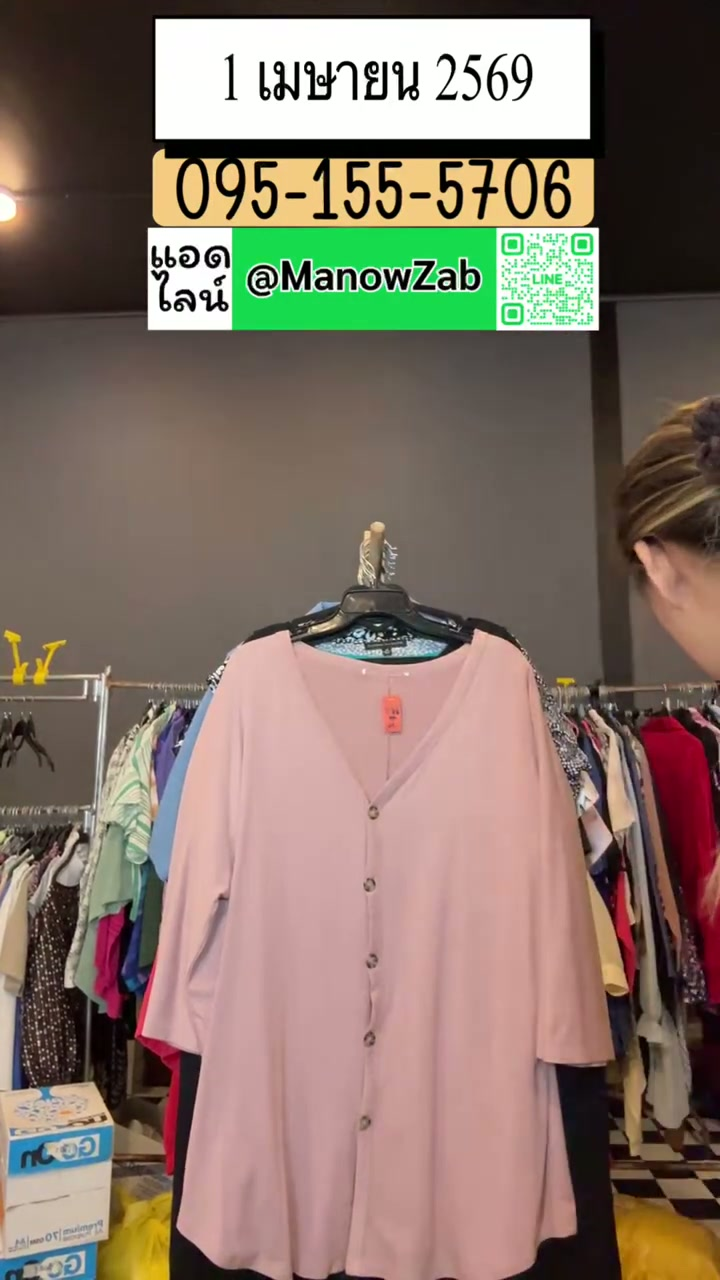display_shirt: (148, 633, 611, 1279)
